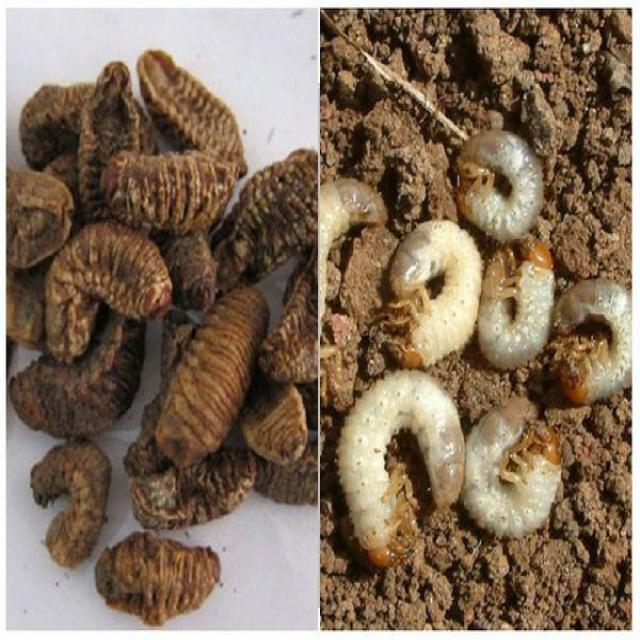Grub-Adult-: (337, 360, 469, 566), (437, 78, 558, 254), (373, 218, 487, 369), (444, 383, 554, 530), (476, 234, 572, 386), (556, 270, 639, 410)
